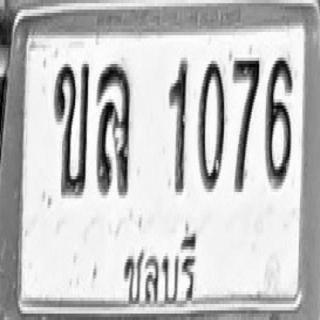A02: (53, 61, 90, 195)
A36: (96, 61, 130, 195)
N00: (198, 58, 225, 192)
N01: (168, 58, 187, 192)
N06: (265, 54, 292, 186)
N07: (233, 54, 260, 192)
P13: (118, 220, 200, 320)
